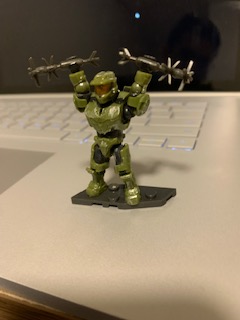chief: (63, 52, 155, 209)
spartan: (61, 50, 153, 207)
up: (65, 55, 156, 135)
